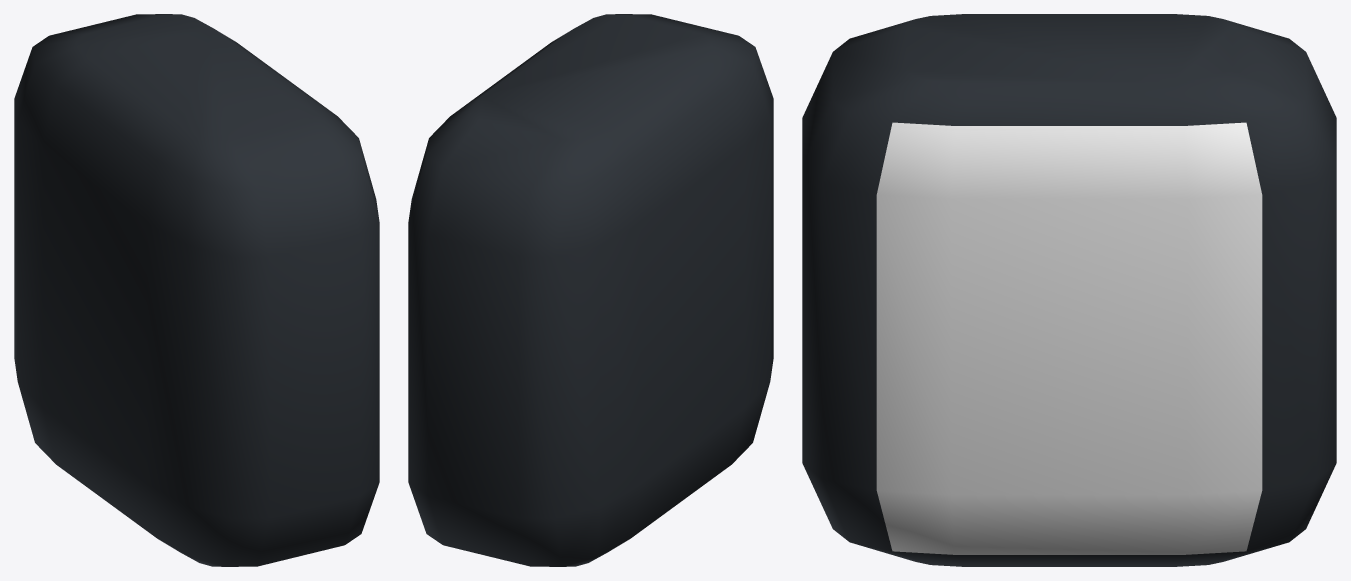
The model's file is AED bag.fbx.
3 views of the same model, side by side, from view 1: azimuth 30°, elevation 25°; view 2: azimuth 150°, elevation 25°; view 3: azimuth 270°, elevation 25° (orthographic). The views are drawn at different scales.
Visible parts, largest first — view 1: AED bag; view 2: AED bag; view 3: AED bag.
Boxes of the visible parts, box(x1,y1,x2,y2) form: AED bag: box(14, 14, 379, 566); AED bag: box(408, 14, 773, 566); AED bag: box(802, 14, 1336, 566).
Bounding box in the file's own units: 21.08 × 42.16 × 42.16.
